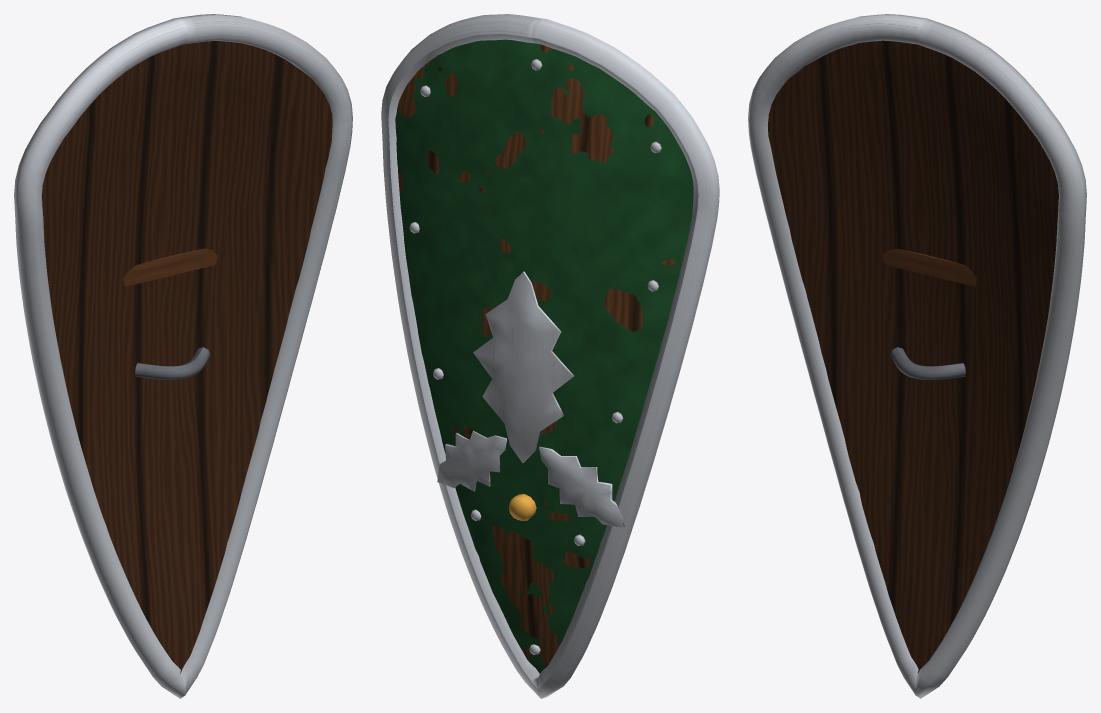
The model's file is WardensShield.glb.
3 views of the same model, side by side, from view 1: azimuth 30°, elevation 25°; view 2: azimuth 150°, elevation 25°; view 3: azimuth 330°, elevation 25° (orthographic).
Parts seen in each view (by area): view 1: WardensShield; view 2: WardensShield; view 3: WardensShield.
Part boxes in pixels (bbox=[...]): WardensShield: bbox=[14, 14, 352, 698]; WardensShield: bbox=[381, 14, 719, 698]; WardensShield: bbox=[748, 14, 1086, 698].
Size of the model in its own units: 1.83 by 3.55 by 0.3851.
1 material, 1 textured.
